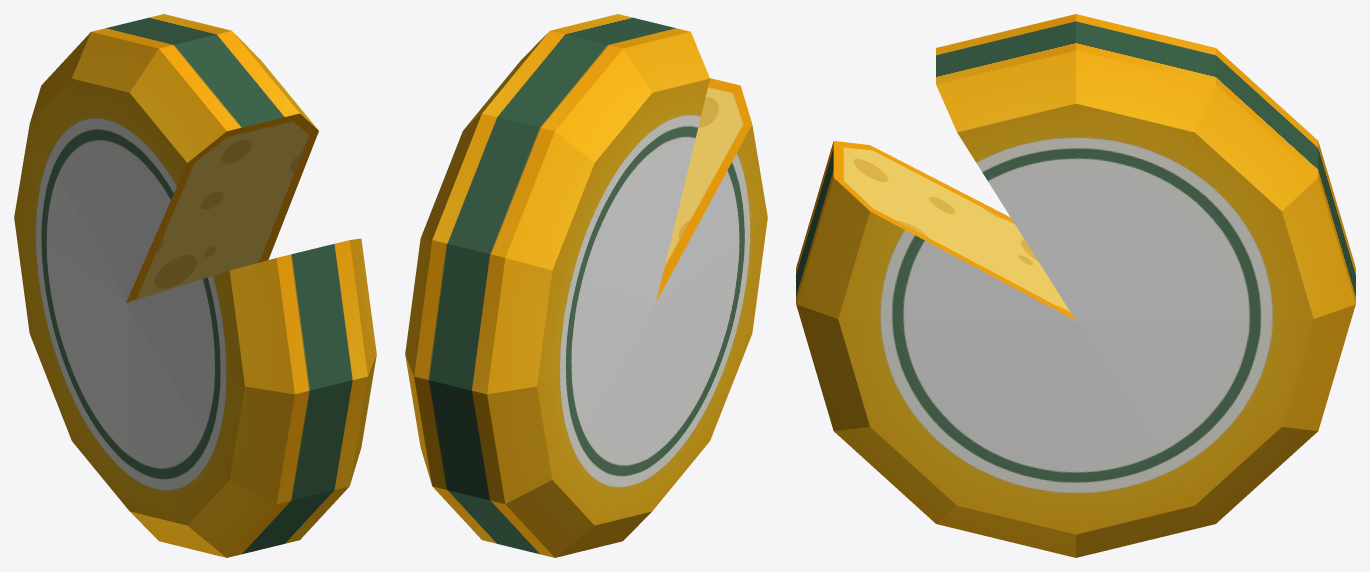
File: Kaaswiel_model.fbx
The picture shows the model from 3 angles, left to right: view 1: azimuth 30°, elevation 25°; view 2: azimuth 150°, elevation 25°; view 3: azimuth 270°, elevation 25°; orthographic projection. The views are drawn at different scales.
Visible parts, largest first — view 1: Cheesewheel; view 2: Cheesewheel; view 3: Cheesewheel.
Part boxes in pixels (x1=…): Cheesewheel: x1=14, y1=14, x2=376, y2=557; Cheesewheel: x1=405, y1=14, x2=767, y2=557; Cheesewheel: x1=796, y1=14, x2=1355, y2=557.
Bounding box in the file's own units: 39.28 × 133 × 133.
